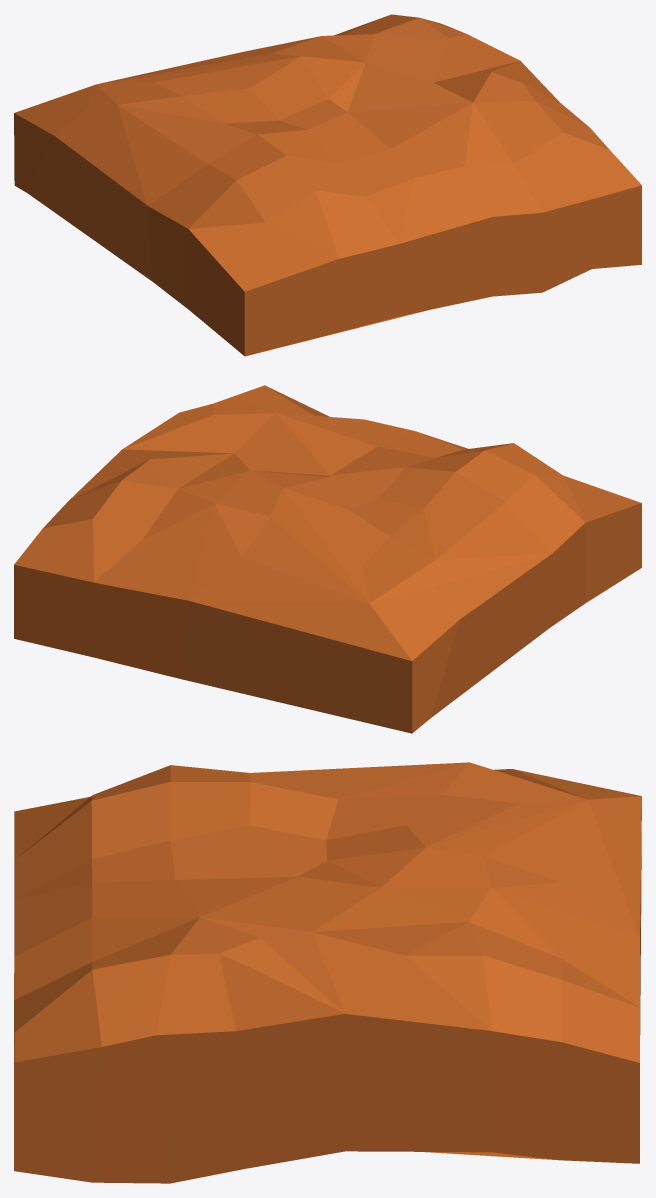
File: NewPath1.fbx
3 renders of one model, top to bottom at view 1: azimuth 30°, elevation 25°; view 2: azimuth 150°, elevation 25°; view 3: azimuth 270°, elevation 25°, orthographic. The views are drawn at different scales.
Visible parts, largest first — view 1: Path 1; view 2: Path 1; view 3: Path 1.
Part boxes in pixels (box(x1,y1,x2,y2)): Path 1: box(14, 14, 641, 356); Path 1: box(14, 385, 641, 733); Path 1: box(14, 762, 641, 1183).
Bounding box in the file's own units: 5.6 × 2.05 × 5.56.
